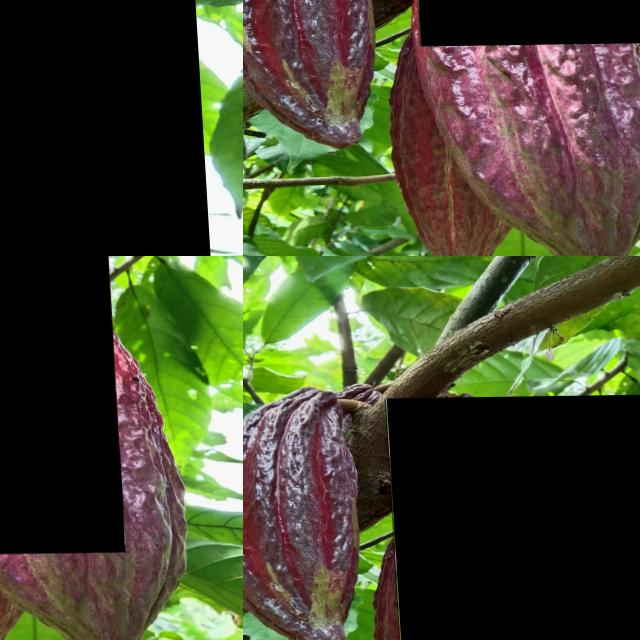Fitoftora: (0, 256, 119, 555)
Sana: (382, 396, 640, 640), (0, 0, 208, 256), (243, 385, 358, 640), (243, 0, 422, 98), (364, 538, 470, 640)
